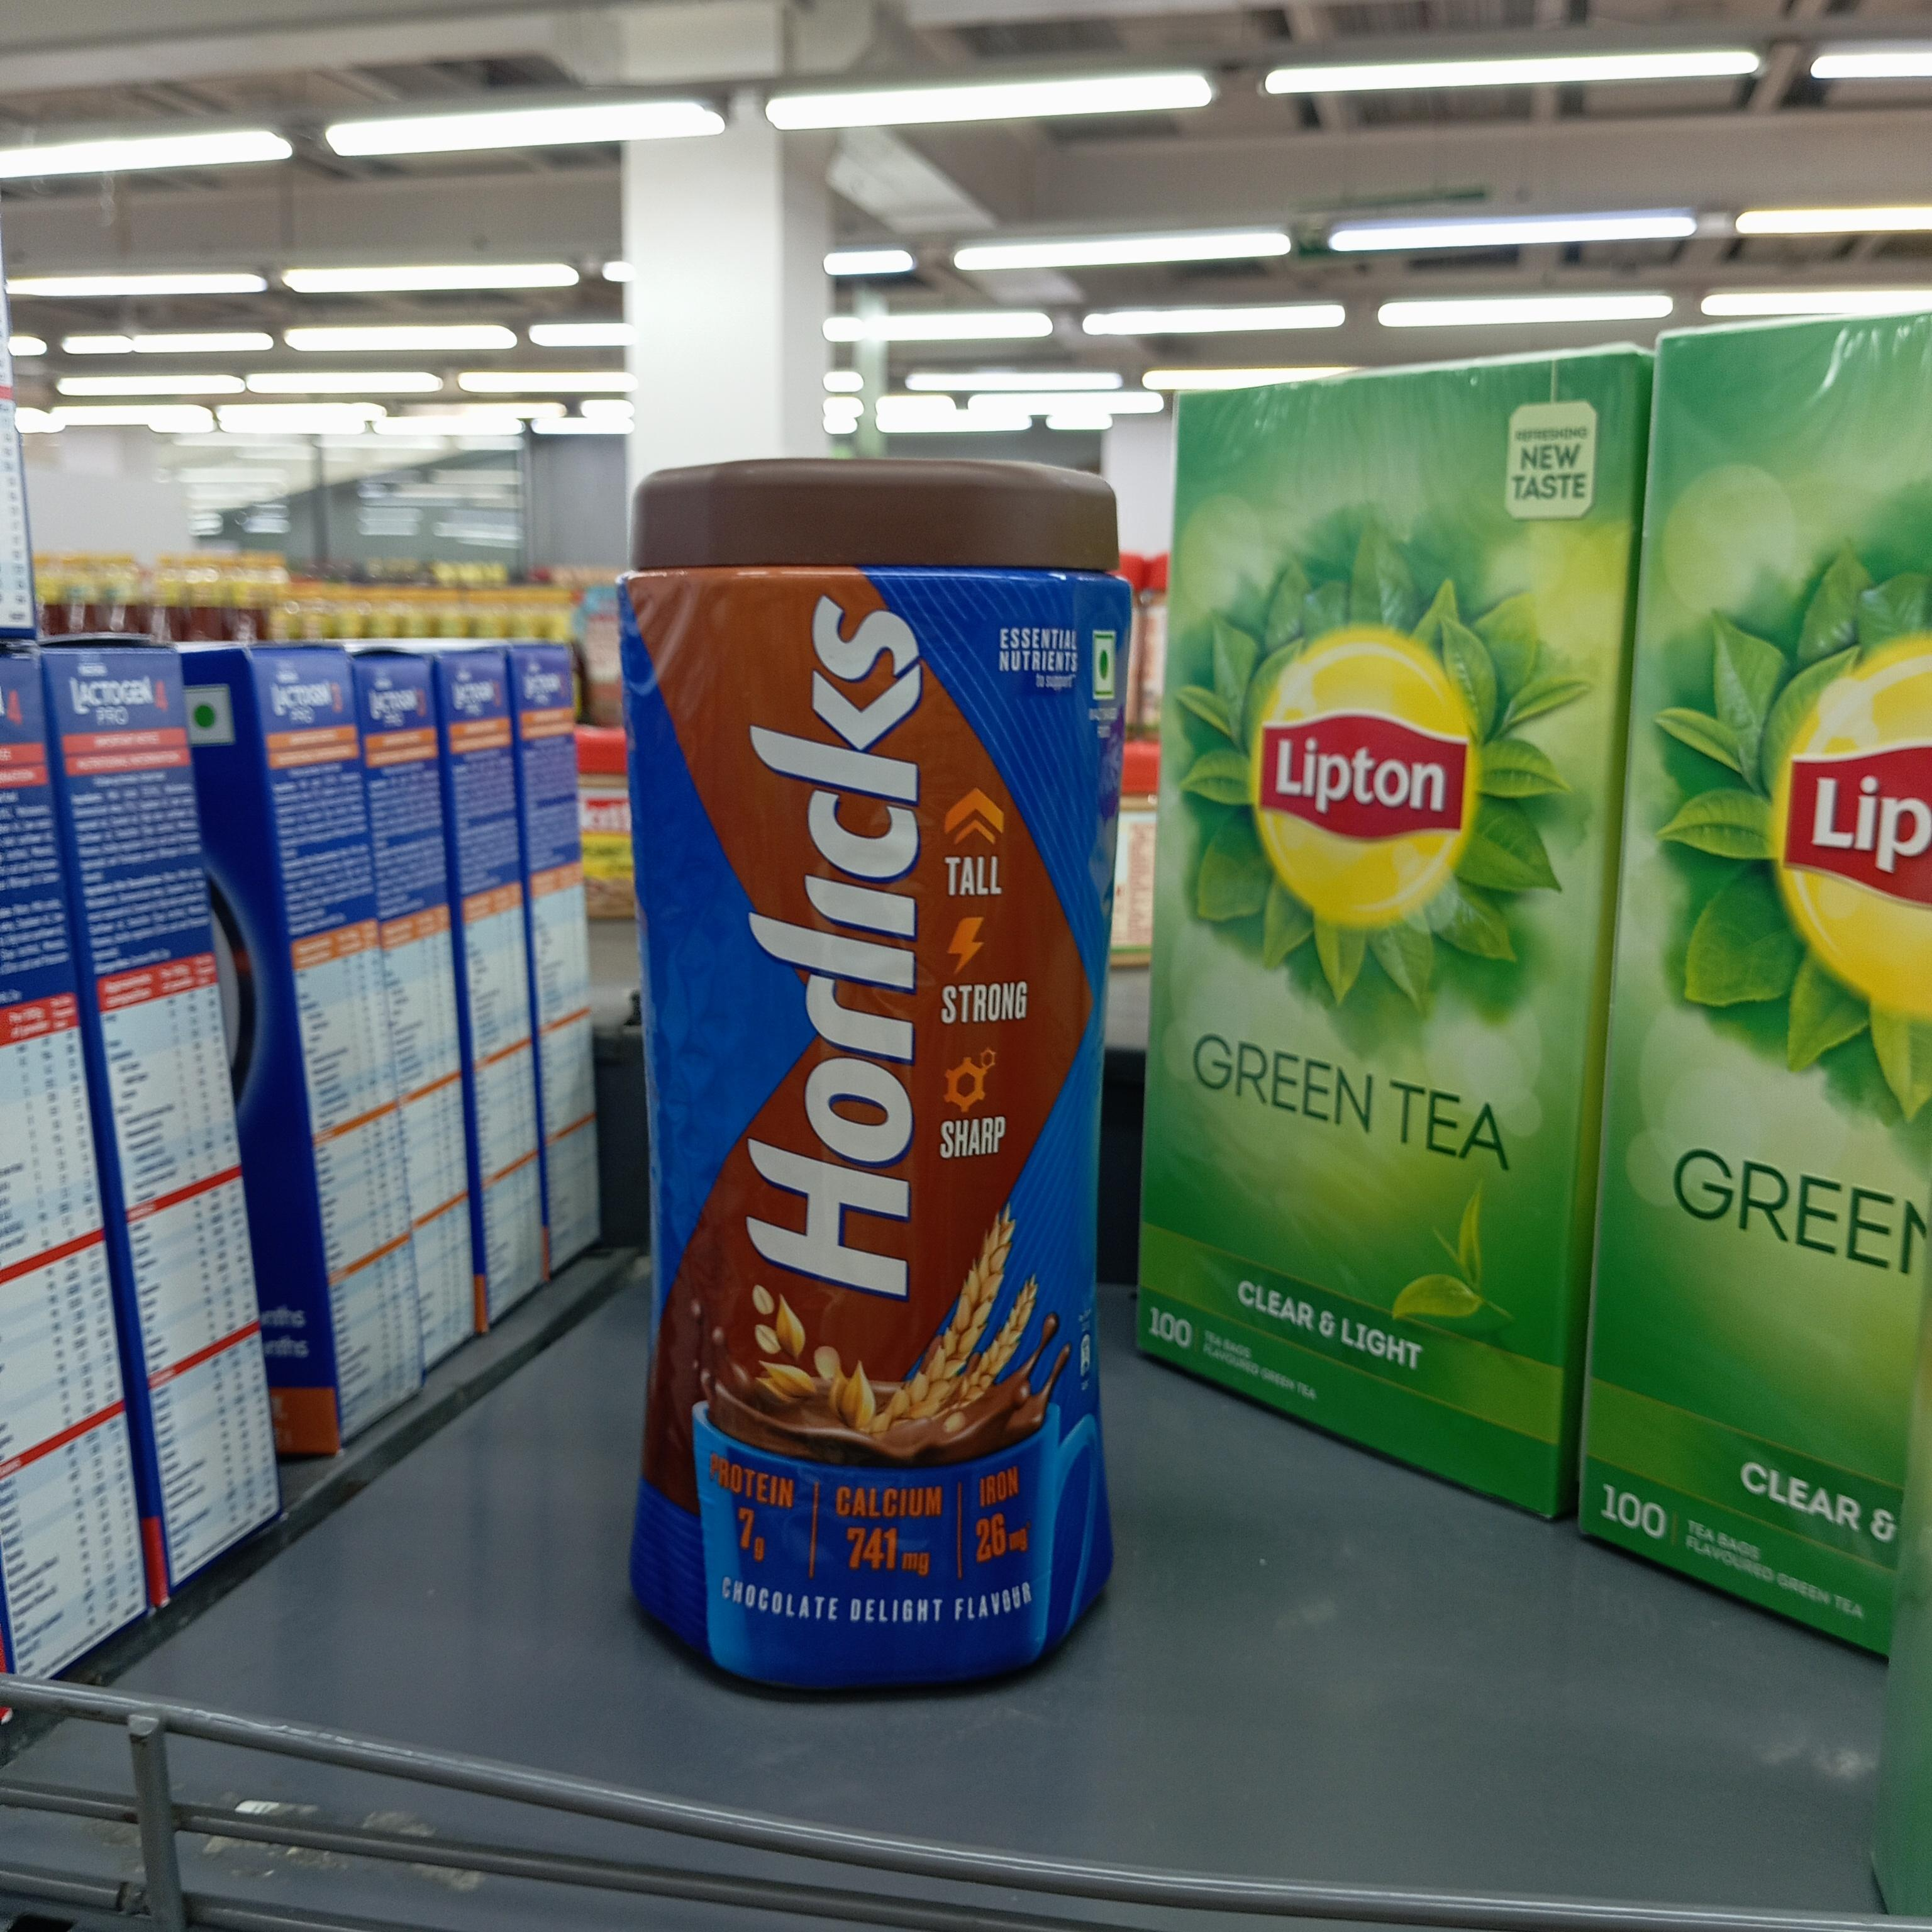HORLICK_CHOCOLATE_1_KG_JAR: (628, 458, 1113, 1693)
